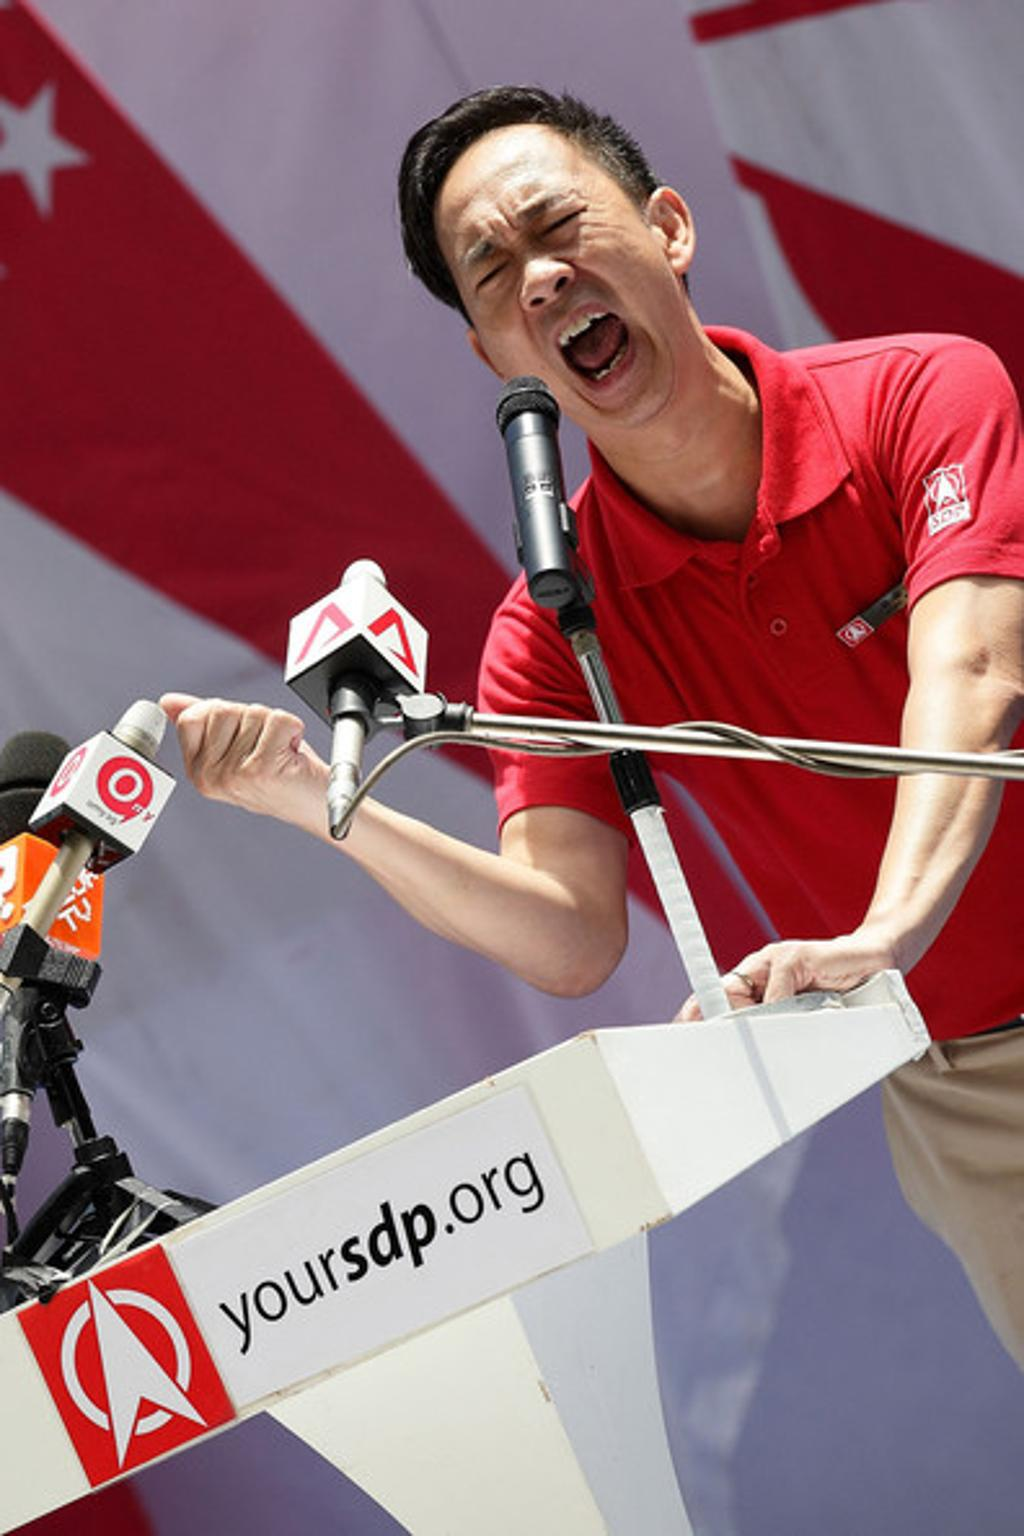face: (433, 115, 682, 442)
